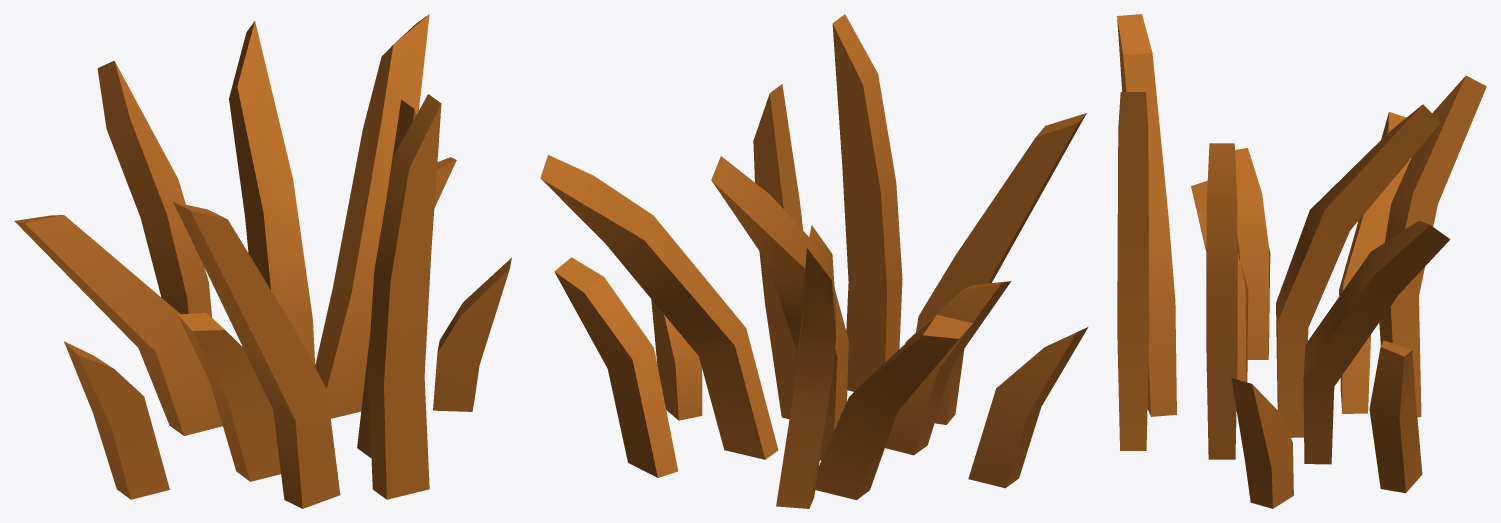
Rendered from Grass_1-transformed.glb.
3 views of the same model, side by side, from view 1: azimuth 30°, elevation 25°; view 2: azimuth 150°, elevation 25°; view 3: azimuth 270°, elevation 25° (orthographic). The views are drawn at different scales.
Parts seen in each view (by area): view 1: Grass_1; view 2: Grass_1; view 3: Grass_1.
Boxes of the visible parts, bbox=[...] form: Grass_1: bbox=[14, 14, 511, 508]; Grass_1: bbox=[540, 14, 1088, 508]; Grass_1: bbox=[1117, 14, 1486, 508].
Bounding box in the file's own units: 1.27 × 0.9906 × 0.9104.
Materials: 1 (1 with a texture image).
